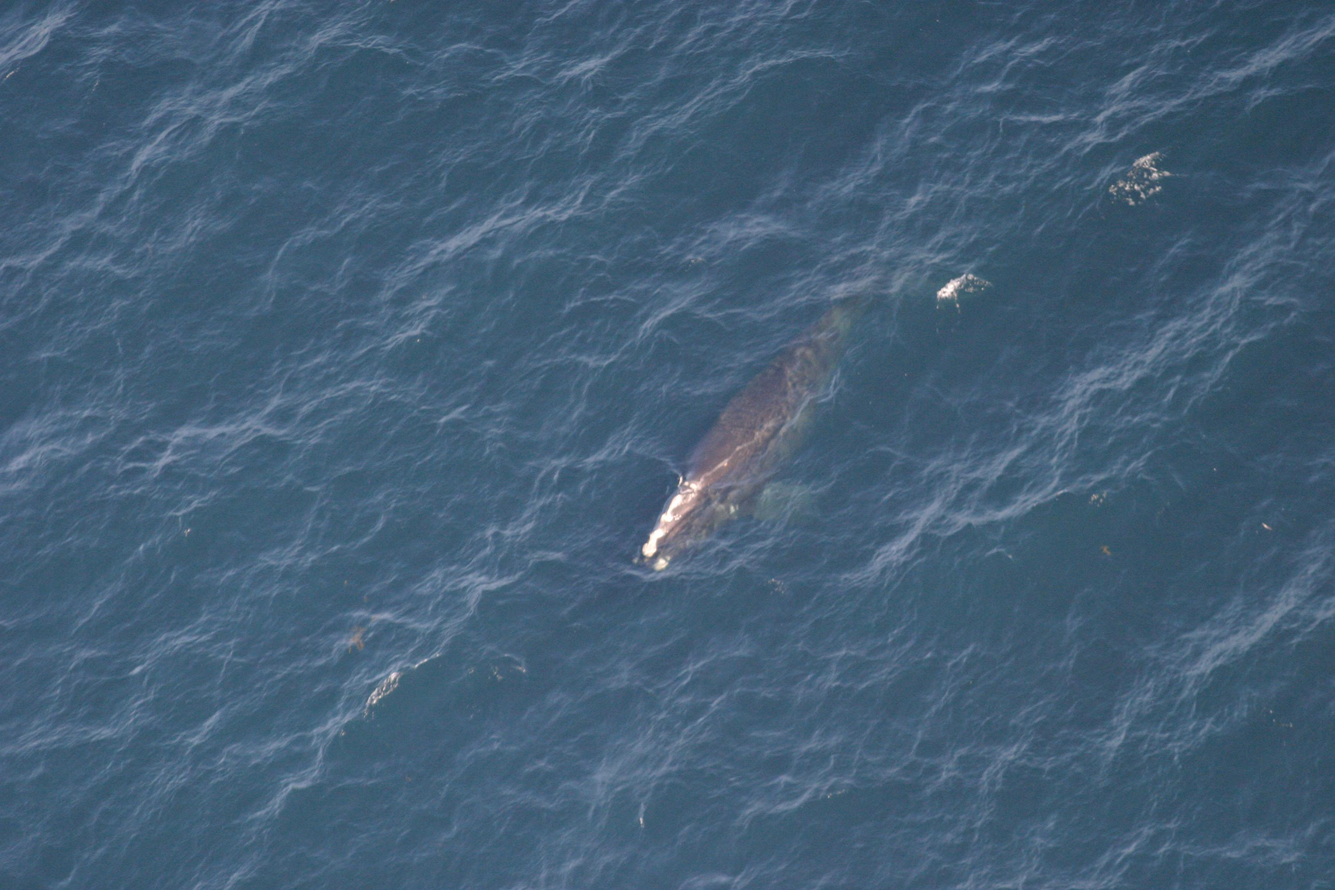whale: (621, 207, 991, 587)
